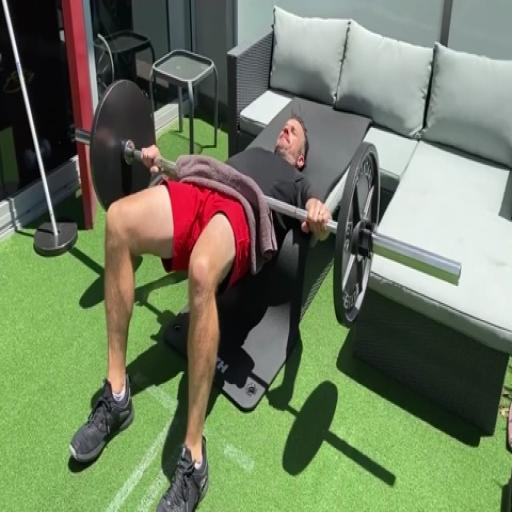exercise: (67, 111, 334, 511)
